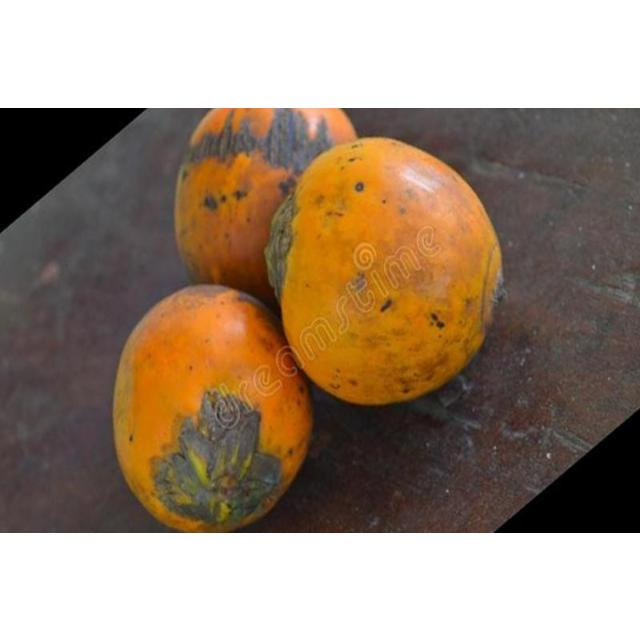good: (266, 138, 500, 404), (110, 285, 310, 529), (174, 107, 356, 310)
